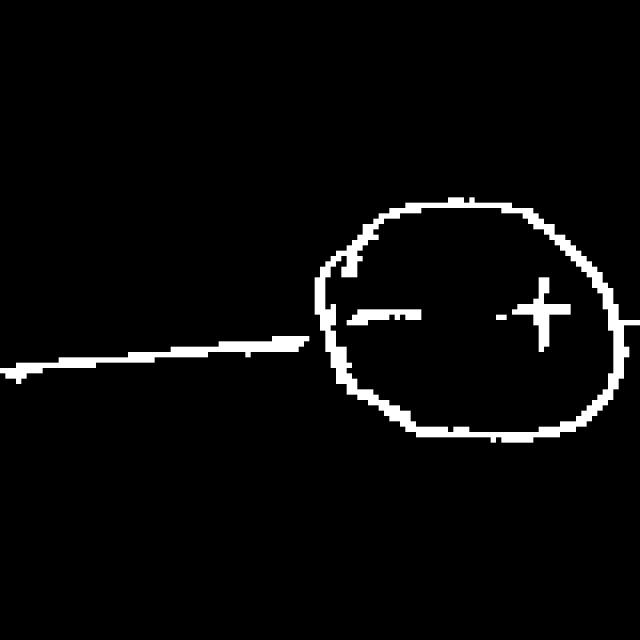voltage_source: (310, 163, 635, 469)
